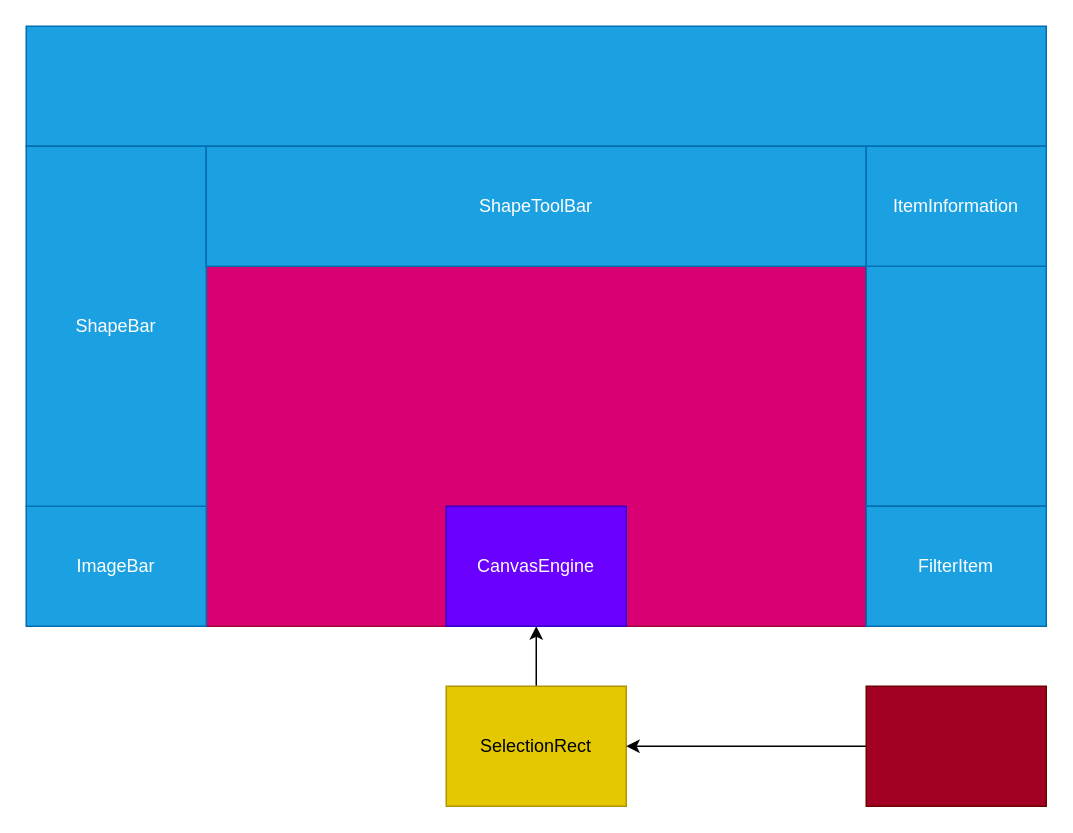
The diagram is 1073 pixels wide and 833 high, and some of its shapes have lost their labels. The shapes that lost their labels are listed below. From the top down, each one's box as (x1, y1, x2, y2) in pixels, then its label:
(25, 25, 1046, 146): MyMenuBar
(865, 265, 1046, 506): LayerItem
(205, 265, 866, 626): App
(865, 685, 1046, 806): RectangleItem
